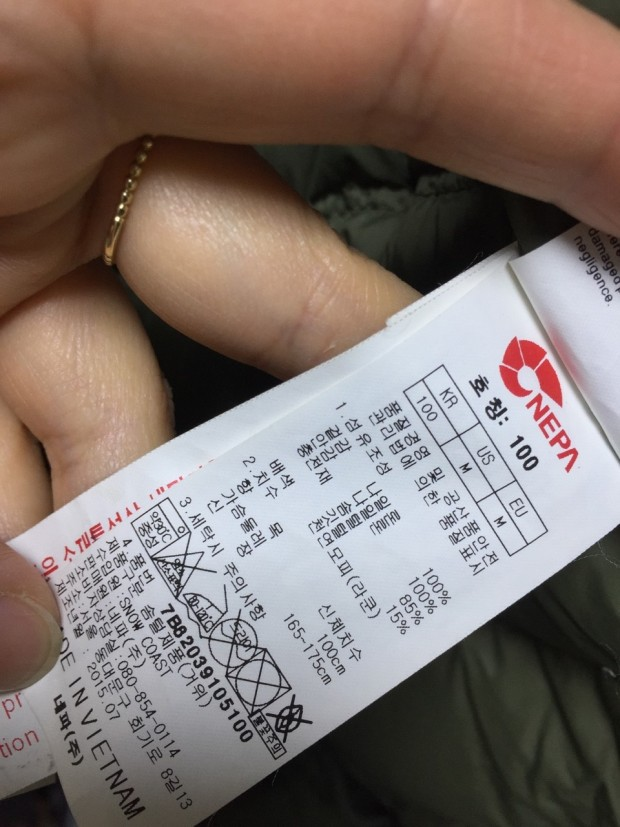KR_iron_low_temp_with_cloth: (174, 573, 243, 642)
KR_no_bleach: (148, 530, 220, 604)
KR_no_dry_clean: (202, 605, 273, 676)
KR_no_tumble_dry: (222, 643, 300, 717)
KR_wash_warm_30_neutral: (126, 492, 195, 561)
